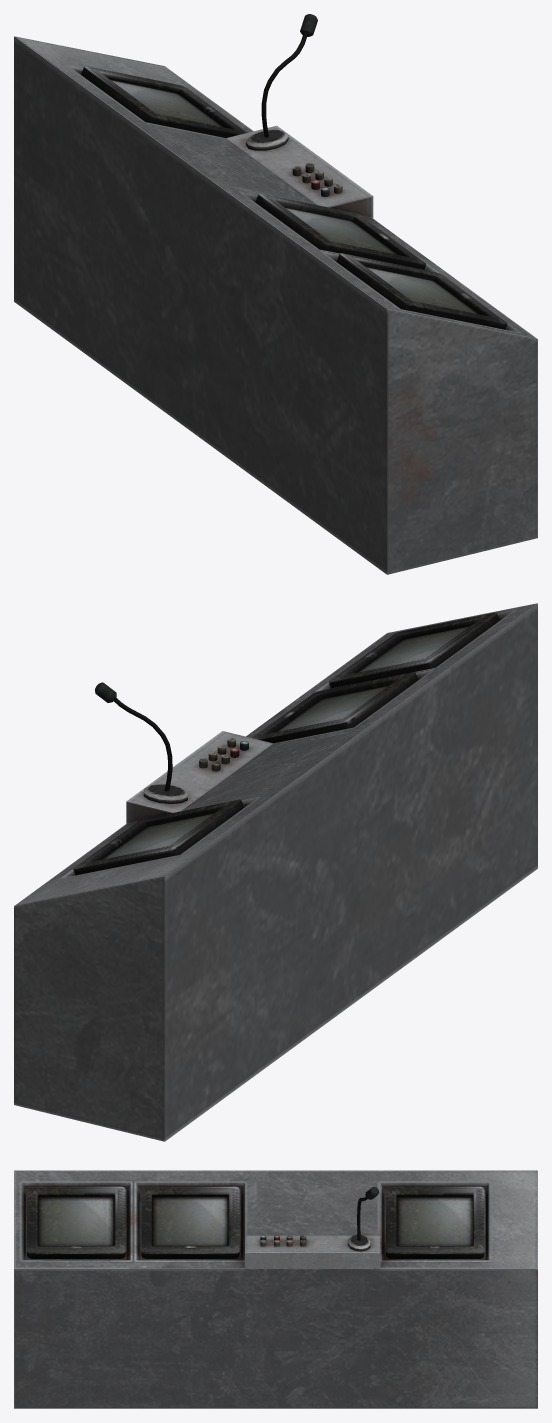
Rendered from SecurityDesk.FBX.
The picture shows the model from 3 angles, top to bottom: view 1: azimuth 30°, elevation 25°; view 2: azimuth 150°, elevation 25°; view 3: azimuth 270°, elevation 25°; orthographic projection. The views are drawn at different scales.
Parts seen in each view (by area): view 1: SecurityDesk; view 2: SecurityDesk; view 3: SecurityDesk.
Part boxes in pixels (x1=…): SecurityDesk: x1=14, y1=14, x2=537, y2=574; SecurityDesk: x1=14, y1=603, x2=537, y2=1141; SecurityDesk: x1=14, y1=1170, x2=537, y2=1408.
Size of the model in its own units: 27.12 by 45.86 by 94.23.
